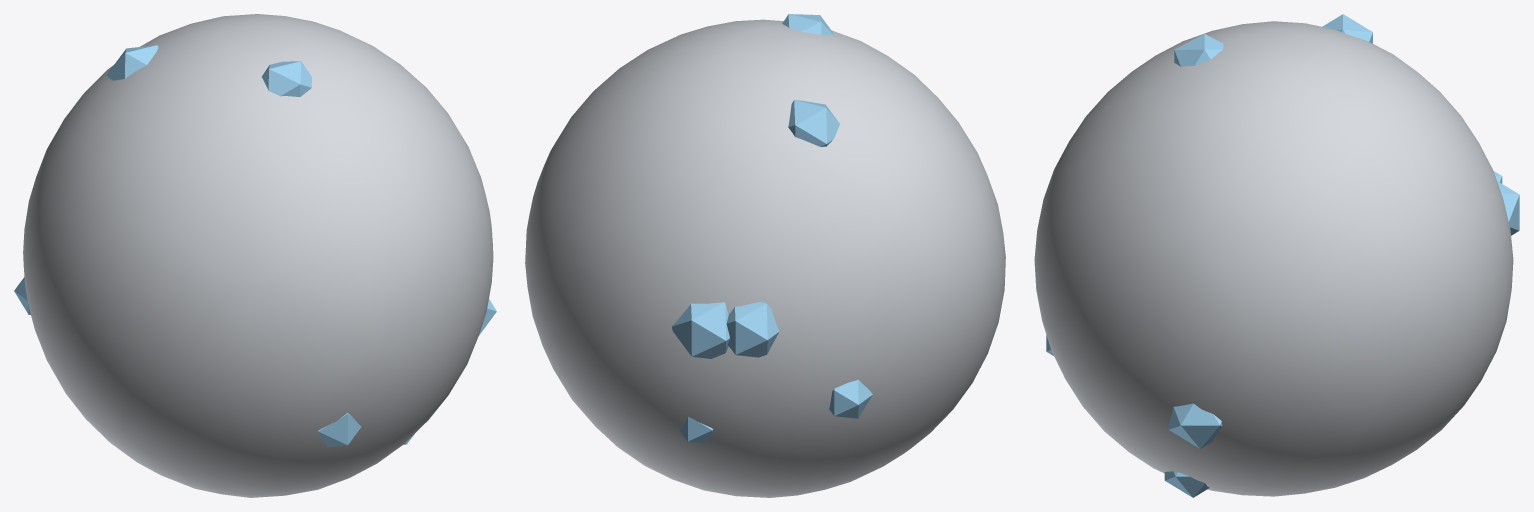
Rendered from SnowballSummitSnowball.obj.
3 views of the same model, side by side, from view 1: azimuth 30°, elevation 25°; view 2: azimuth 150°, elevation 25°; view 3: azimuth 270°, elevation 25° (orthographic).
Visible parts, largest first — view 1: Snow, Ice; view 2: Snow, Ice; view 3: Snow, Ice.
Part boxes in pixels (left/top/right/bottom): Snow: left=23, top=14, right=493, bottom=497; Ice: left=14, top=45, right=496, bottom=447; Snow: left=525, top=19, right=1005, bottom=497; Ice: left=672, top=14, right=872, bottom=443; Snow: left=1034, top=21, right=1513, bottom=496; Ice: left=1046, top=14, right=1519, bottom=497.
Bounding box in the file's own units: 2 × 1.99 × 2.03.
